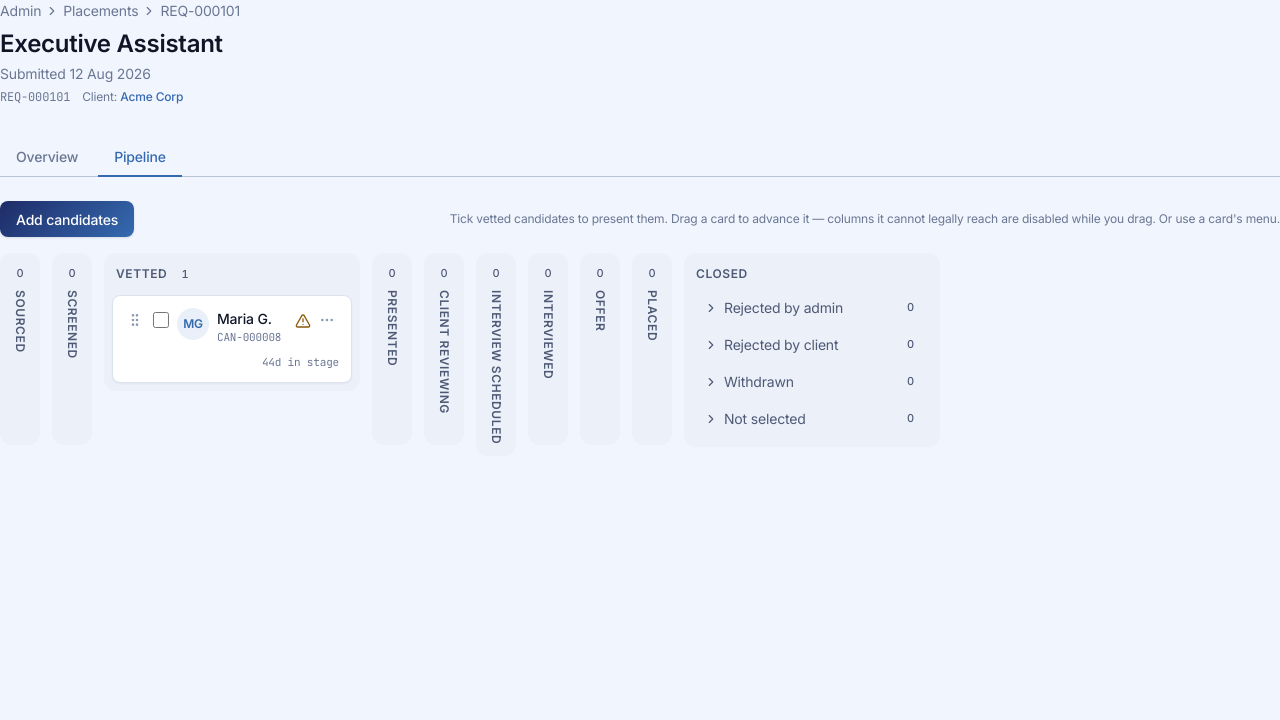
Test case: event log surfacing › pipeline card 'View history' opens a sheet backed by GET /assignments/:id/events
Click the button named "Actions for Maria G." at x=327, y=320, box [315, 308, 339, 332]
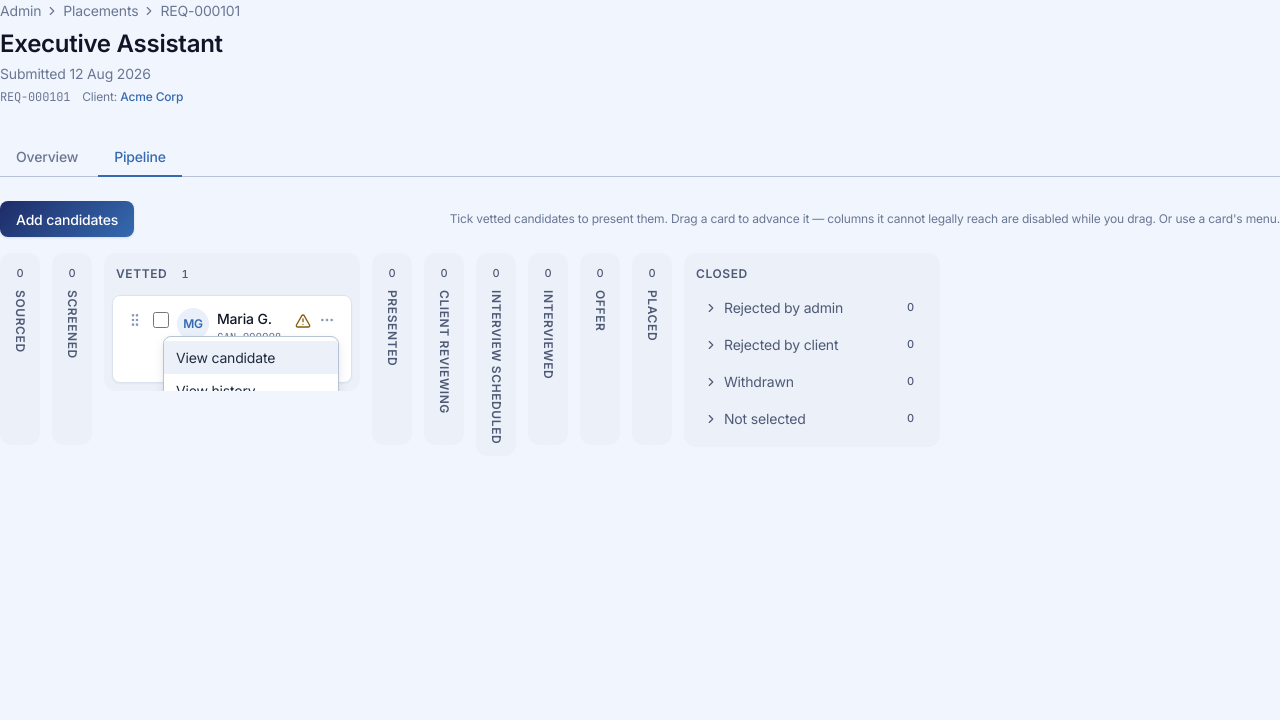
Click the menu item "View history" at x=251, y=390, box [164, 374, 338, 407]
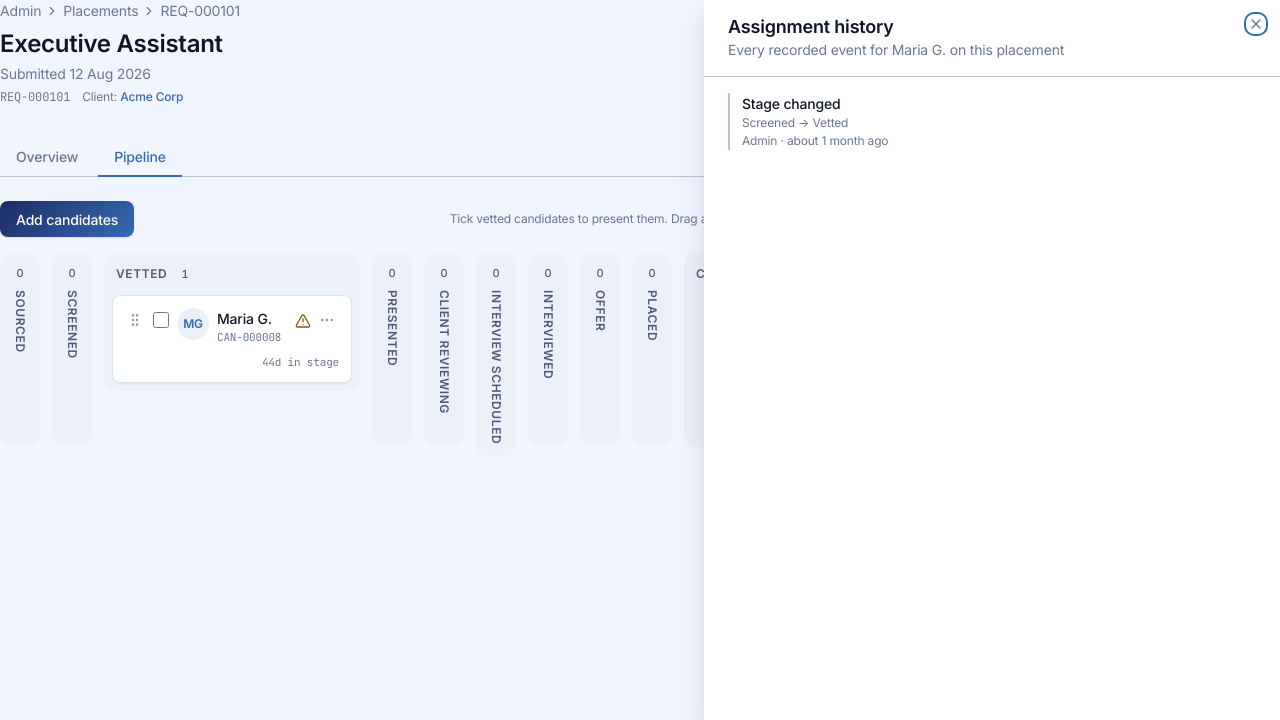
Expected: the text "Stage changed" is shown, [742, 94, 841, 112]
Expected: the text "Screened → Vetted" is shown, [742, 114, 848, 130]
